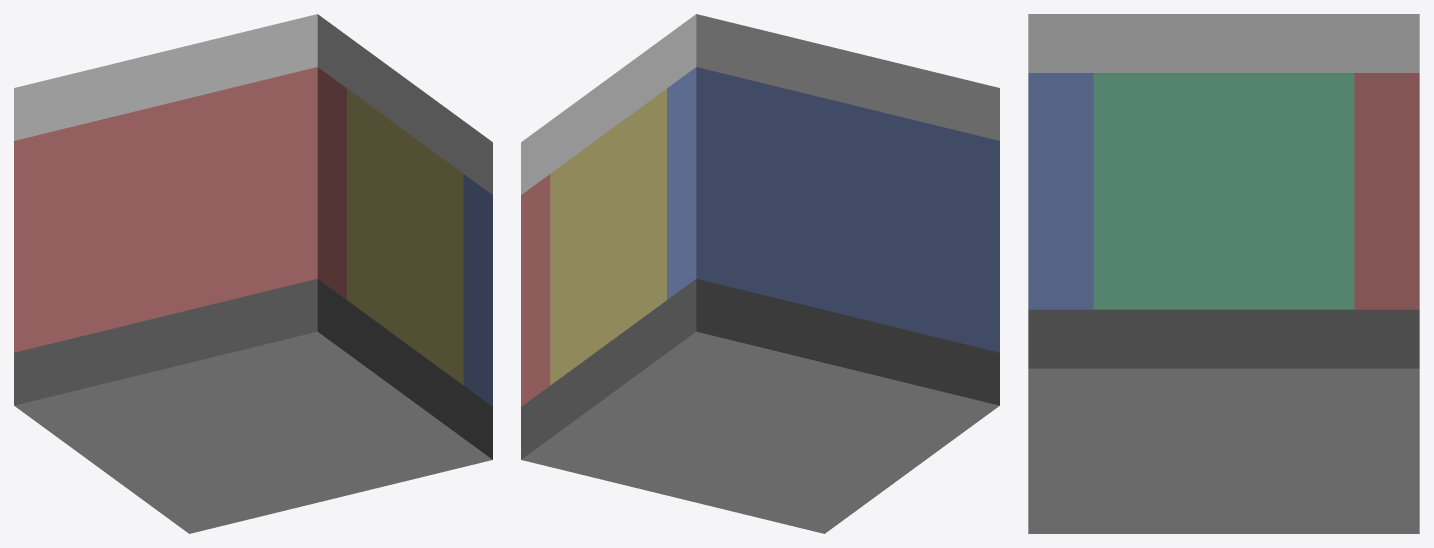
File: dice.glb
The picture shows the model from 3 angles, left to right: view 1: azimuth 30°, elevation 25°; view 2: azimuth 150°, elevation 25°; view 3: azimuth 270°, elevation 25°; orthographic projection. The views are drawn at different scales.
Bounding box in the file's own units: 1 × 1 × 1.
